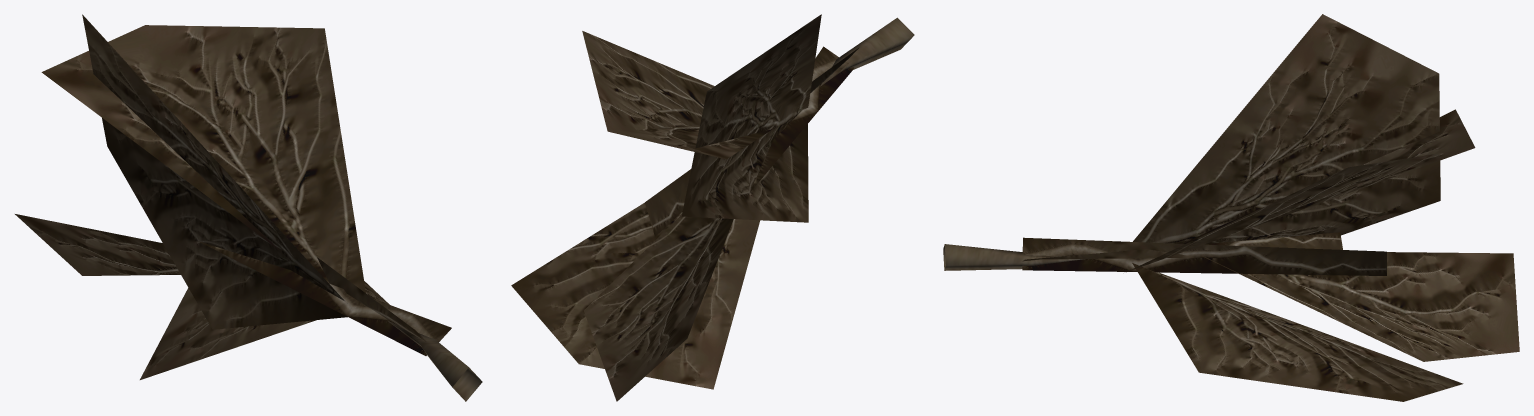
The model's file is MEP_DTreeBranch_01.fbx.
The picture shows the model from 3 angles, left to right: view 1: azimuth 30°, elevation 25°; view 2: azimuth 150°, elevation 25°; view 3: azimuth 270°, elevation 25°; orthographic projection. The views are drawn at different scales.
Parts seen in each view (by area): view 1: MEP_DTreeBranch_01; view 2: MEP_DTreeBranch_01; view 3: MEP_DTreeBranch_01.
Boxes of the visible parts, x1,y1,x2,y2 form: MEP_DTreeBranch_01: (15, 14, 482, 401); MEP_DTreeBranch_01: (511, 14, 914, 401); MEP_DTreeBranch_01: (943, 14, 1519, 401).
Bounding box in the file's own units: 2.66 × 3.51 × 5.57.
